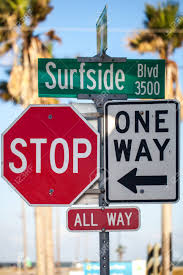oneWay: (103, 100, 181, 202)
stop: (2, 102, 99, 206)
